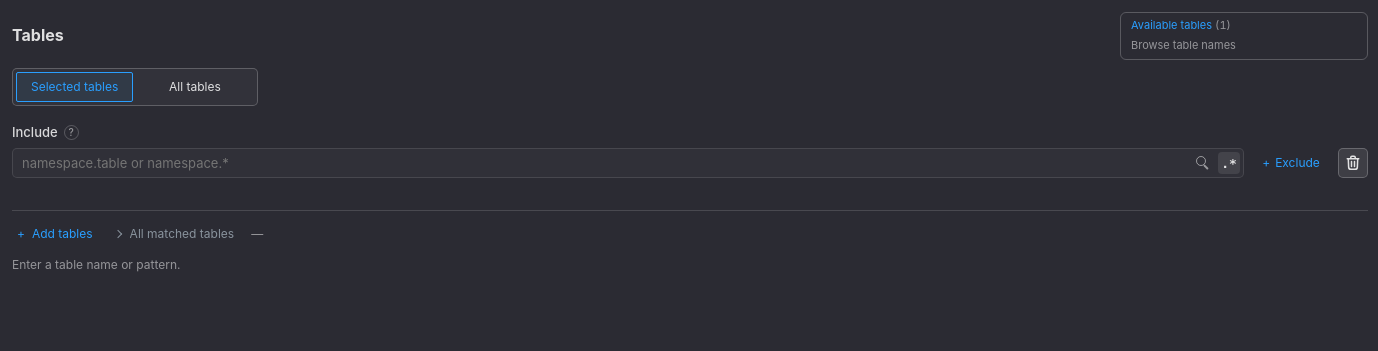
Test: offers an initial empty row and never previews unfinished includes
Expected: the dropdown named "Include rule 1" is empty, [12,148,1244,178]
Click the button "+ Add tables".
click(55, 234)  # box [12,220,98,248]
Wait 300 ms
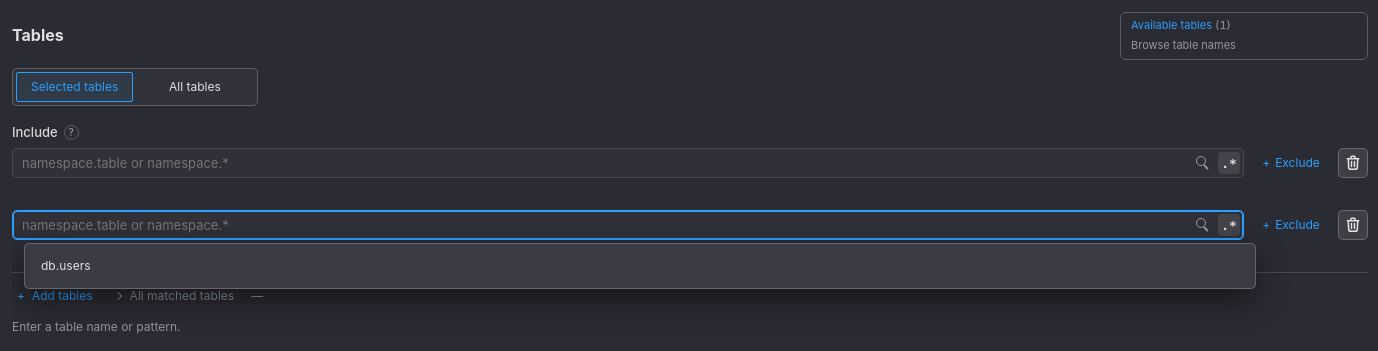
Expected: the message reads "Enter a table name or pattern.", [12,319,180,334]
Expected: the dropdown named "Include rule 2" is shown, [12,210,1244,240]
